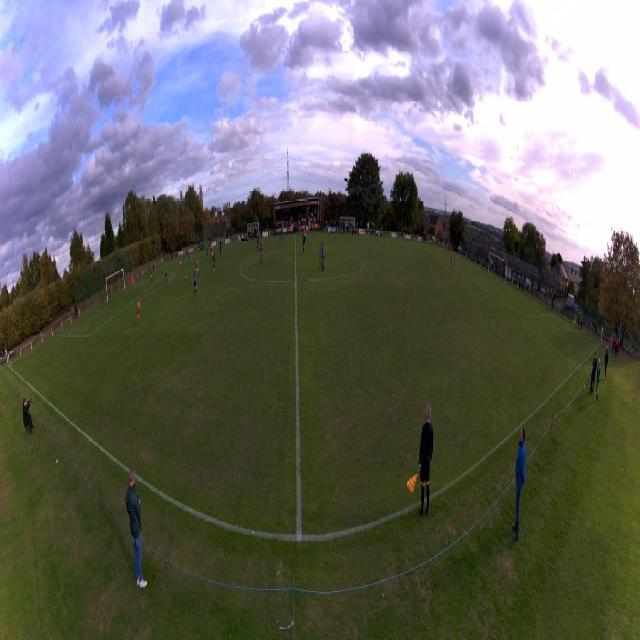ball: (186, 275, 187, 279)
player: (192, 271, 197, 297), (321, 240, 325, 271), (301, 233, 307, 253), (318, 241, 322, 271), (137, 298, 141, 326), (195, 261, 199, 282), (259, 244, 263, 265), (164, 266, 168, 284), (210, 246, 214, 264), (303, 227, 307, 243), (213, 251, 216, 272), (219, 239, 222, 258), (150, 268, 153, 285), (256, 234, 259, 251), (280, 226, 283, 242), (206, 245, 208, 263), (451, 250, 453, 268), (180, 256, 182, 273), (187, 251, 189, 267), (132, 274, 134, 289), (210, 241, 212, 256), (217, 237, 219, 251), (183, 247, 185, 261)
